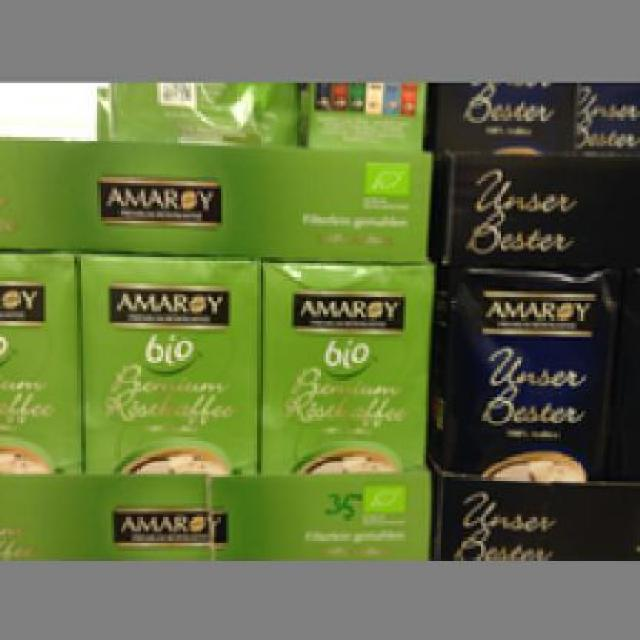Coffee: (77, 252, 257, 472), (432, 263, 612, 483), (256, 257, 429, 472)
